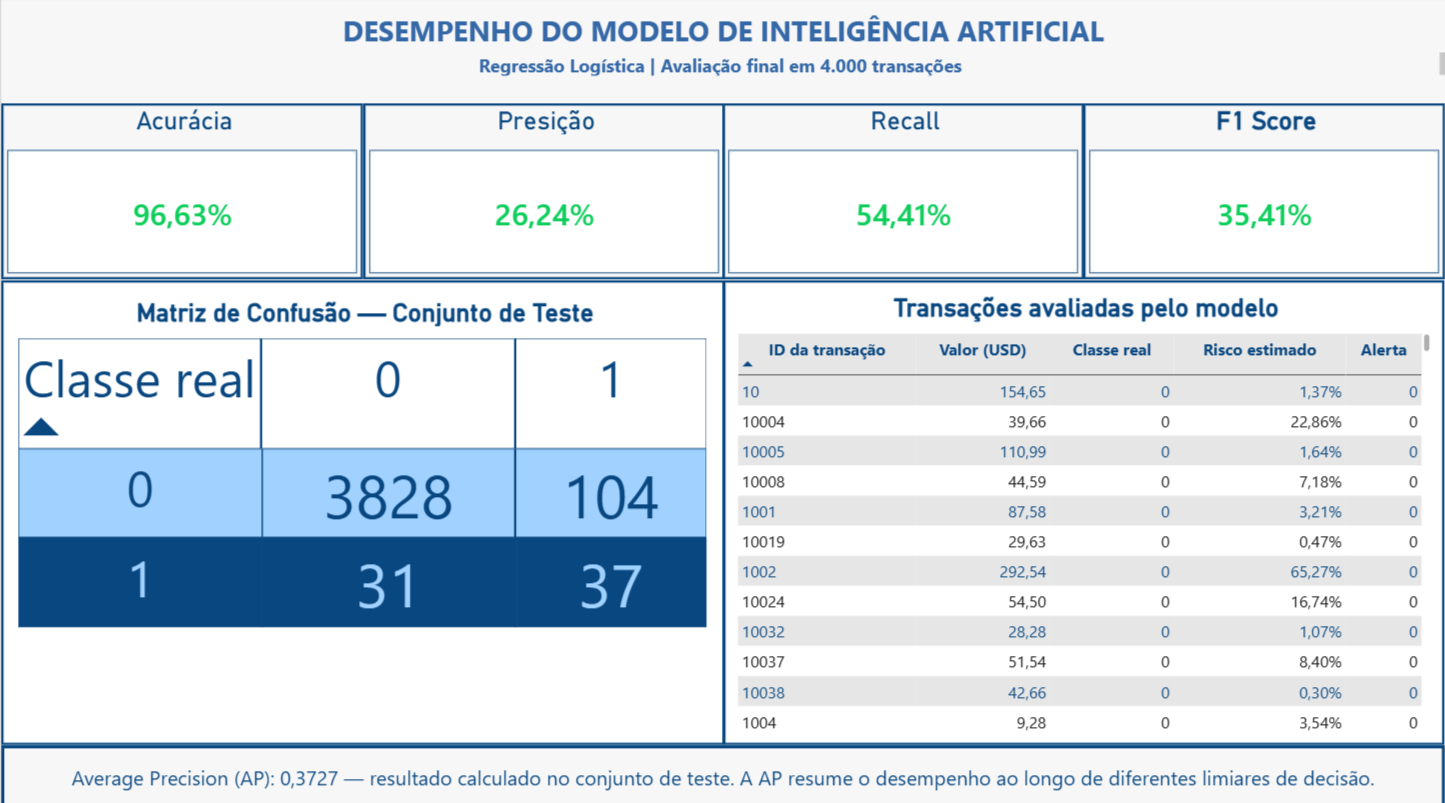

The dashboard page shown, as its layout file describes it:
{"tool":"powerbi","page":{"name":"02 - Desempenho do Modelo","canvas":[1920,1080],"ordinal":1},"visuals":[{"type":"textbox","box":[0,0,1920.6,105],"z":0},{"type":"textbox","box":[0,74.5,1920.6,30.6],"z":1000},{"type":"cardVisual","title":"Acurácia","fields":{"Data":["Predicoes_Teste.Acuracia Modelo"]},"box":[0,142.8,481,234.4],"z":2000},{"type":"cardVisual","title":"F1 Score","fields":{"Data":["Predicoes_Teste.F1 Modelo"]},"box":[1439,142.8,481,234.4],"z":3000},{"type":"cardVisual","title":"Recall","fields":{"Data":["Predicoes_Teste.Recall Modelo"]},"box":[959.3,142.8,481,234.4],"z":4000},{"type":"cardVisual","title":"Presição","fields":{"Data":["Predicoes_Teste.Precisao Modelo"]},"box":[481,142.8,481,234.4],"z":5000},{"type":"pivotTable","title":"Matriz de Confusão — Conjunto de Teste","fields":{"Columns":["Predicoes_Teste.alerta_modelo"],"Rows":["Predicoes_Teste.classe_real"],"Values":["Predicoes_Teste.Total Avaliadas"]},"box":[0,377.3,962,618.4],"z":6000},{"type":"tableEx","title":"Transações avaliadas pelo modelo","fields":{"Values":["Predicoes_Teste.transaction_id","Predicoes_Teste.amount_usd","Predicoes_Teste.classe_real","Predicoes_Teste.probabilidade_fraude","Predicoes_Teste.alerta_modelo"]},"box":[960.7,377.3,959.3,618.4],"z":7000},{"type":"textbox","box":[0,995.7,1920,84.9],"z":8000}]}

Visuals, with their boxes in screenshot pixels (x1, y1, x2, y2), scaled from the page's 1920x1080 canvas onto the 1445x803 screenshot:
textbox: <box>0,0,1444,78</box>
textbox: <box>0,55,1444,78</box>
"Acurácia" cardVisual: <box>0,106,362,280</box>
"F1 Score" cardVisual: <box>1083,106,1444,280</box>
"Recall" cardVisual: <box>722,106,1084,280</box>
"Presição" cardVisual: <box>362,106,724,280</box>
"Matriz de Confusão — Conjunto de Teste" pivotTable: <box>0,281,724,740</box>
"Transações avaliadas pelo modelo" tableEx: <box>723,281,1444,740</box>
textbox: <box>0,740,1444,802</box>
